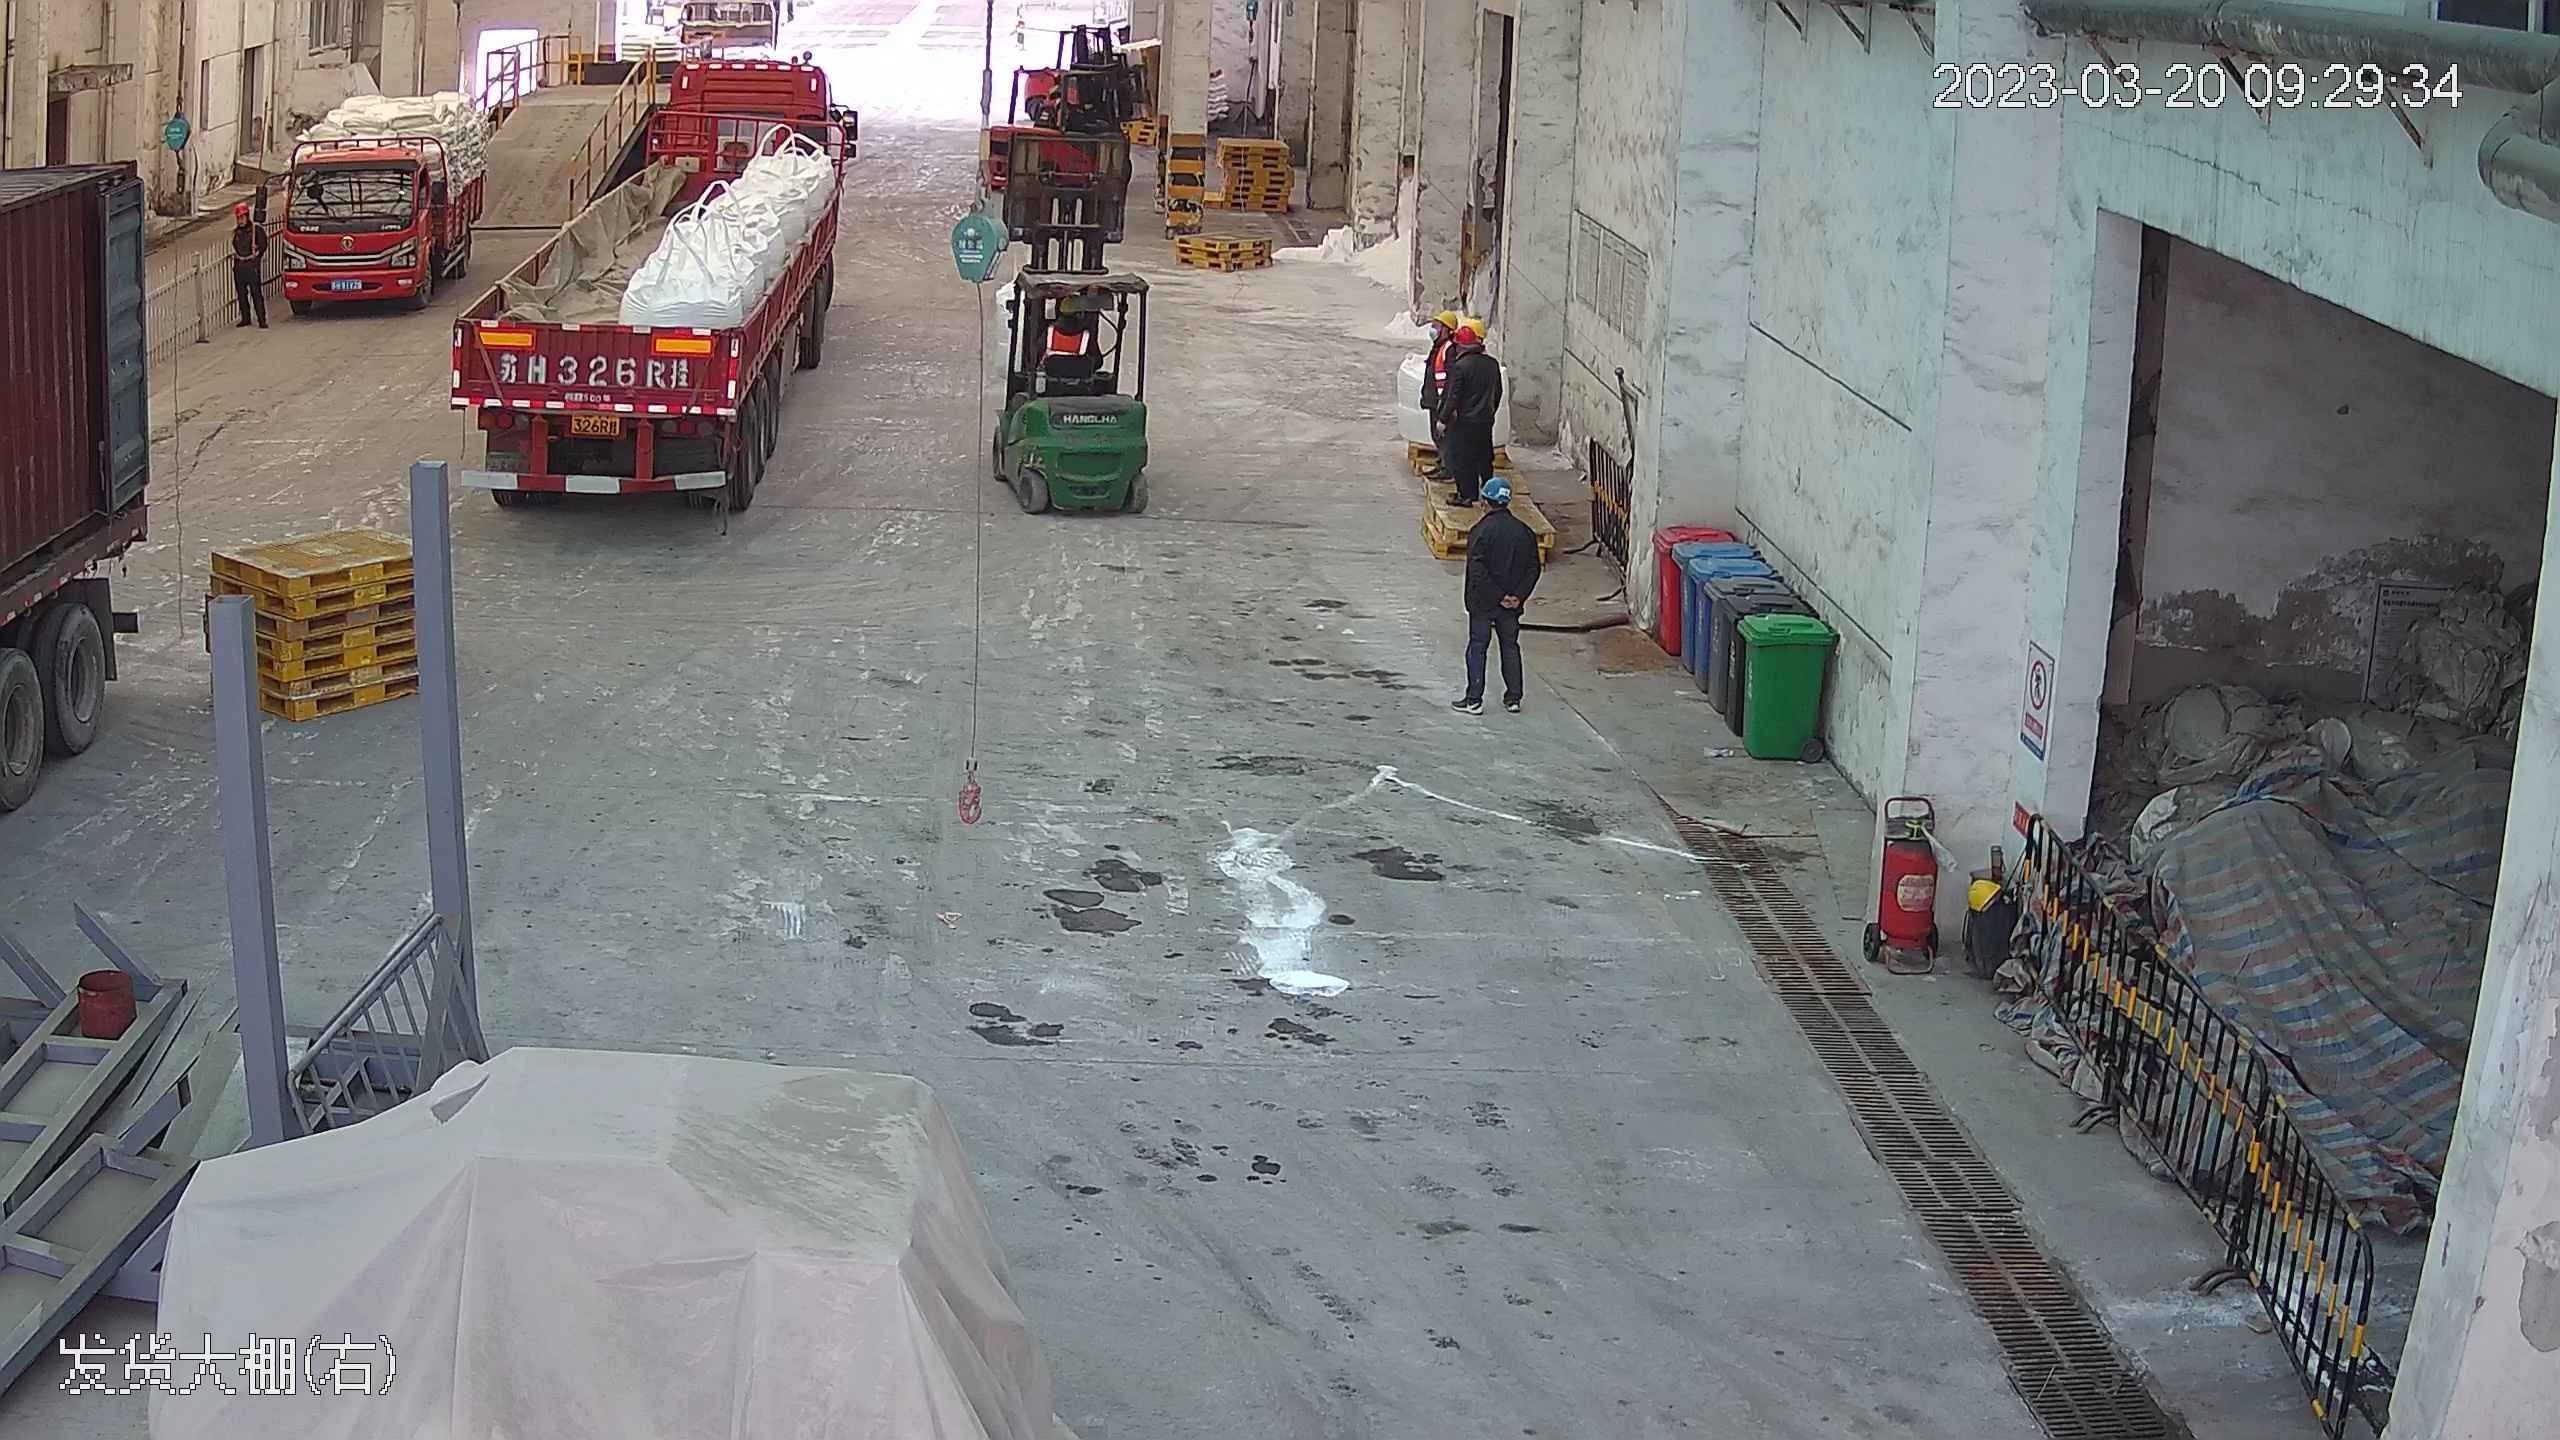belt: (230, 221, 261, 262)
head: (1468, 471, 1538, 550), (1441, 323, 1499, 393), (1039, 297, 1095, 355), (225, 200, 270, 238)
helmet: (1485, 469, 1514, 498), (1432, 307, 1458, 335), (1052, 295, 1084, 317), (1455, 323, 1479, 346), (232, 201, 249, 217)
people: (1454, 468, 1542, 714), (1431, 324, 1499, 519), (224, 197, 271, 332)
truck: (442, 25, 855, 524), (1, 18, 171, 878), (250, 17, 507, 324)
